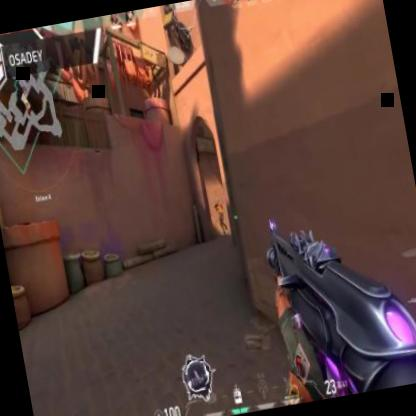enemy: (214, 195, 228, 238)
enemy_head: (215, 197, 219, 203)
